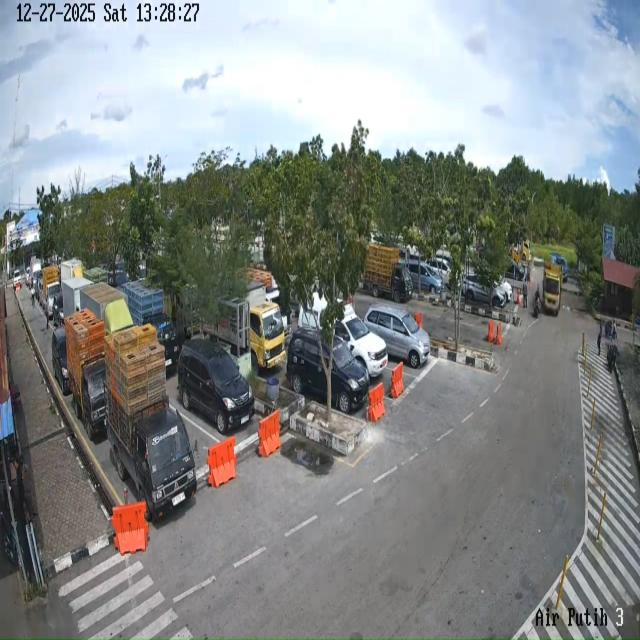Golongan IVA: (298, 292, 388, 378), (177, 339, 255, 434), (286, 328, 369, 414), (364, 304, 430, 368), (462, 273, 507, 308), (51, 327, 71, 395), (408, 261, 443, 294)
Golongan IVB: (105, 378, 196, 522), (65, 352, 109, 440), (362, 243, 413, 302)
Golongan VB: (203, 281, 286, 370), (80, 283, 133, 324), (542, 260, 562, 316)
